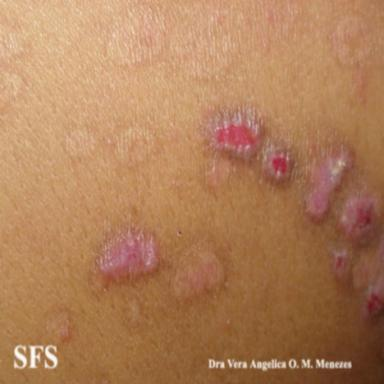Epidermolysis-Bullosa-Pruriginosa: (205, 106, 293, 182), (332, 192, 384, 317), (305, 144, 353, 221), (98, 229, 158, 279)
